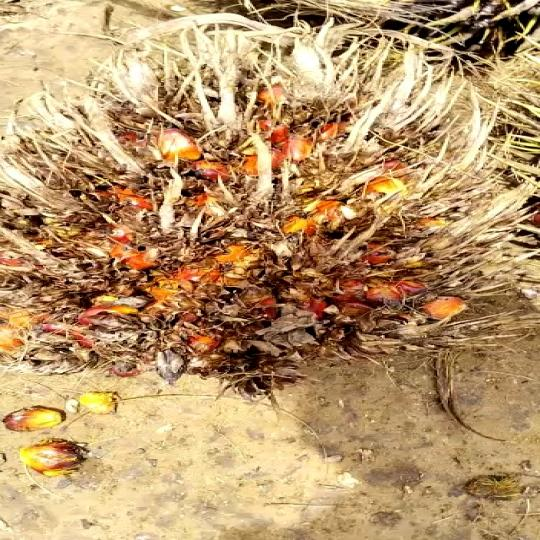terlalu masak: (0, 15, 540, 408)
